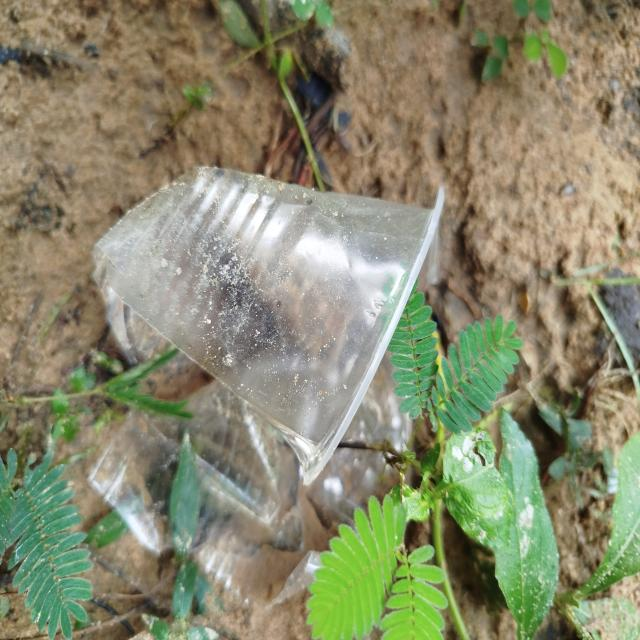plastic: (79, 152, 466, 609)
